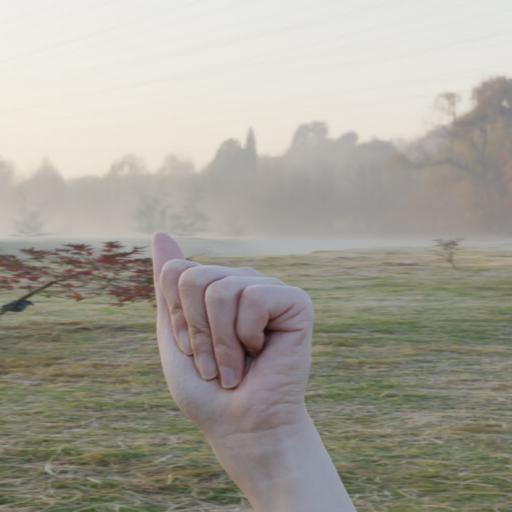A: (136, 221, 335, 486)
